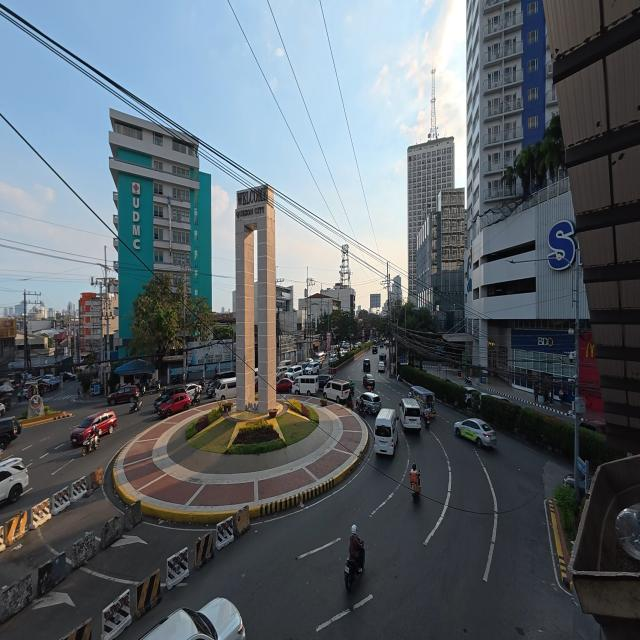car: (0, 459, 29, 509), (455, 417, 499, 448), (156, 389, 193, 418), (108, 386, 140, 408), (354, 392, 381, 417), (0, 416, 21, 442)
vans: (373, 408, 401, 457), (401, 399, 428, 433)
